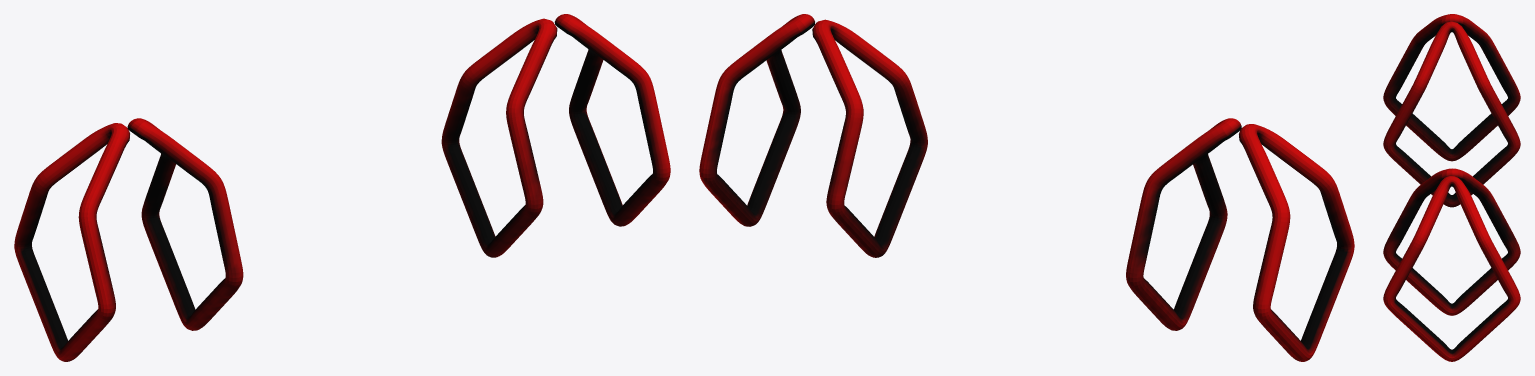
Rendered from Ropes_export.obj.
3 renders of one model, left to right at view 1: azimuth 30°, elevation 25°; view 2: azimuth 150°, elevation 25°; view 3: azimuth 270°, elevation 25°, orthographic. The views are drawn at different scales.
Visible parts, largest first — view 1: Ropes; view 2: Ropes; view 3: Ropes.
Part boxes in pixels (box(x1,y1,x2,y2)): Ropes: box(14, 14, 670, 361); Ropes: box(699, 14, 1354, 361); Ropes: box(1383, 14, 1520, 361).
Bounding box in the file's own units: 4.13 × 1.54 × 1.16.
